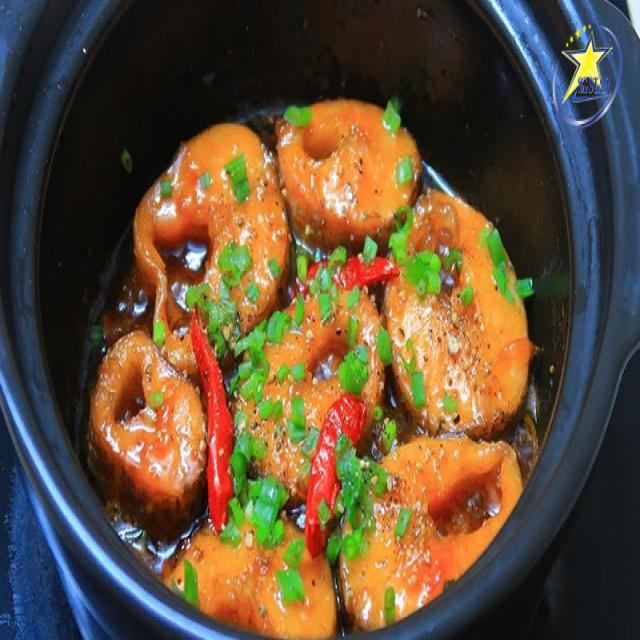ca kho: (90, 100, 535, 635)
